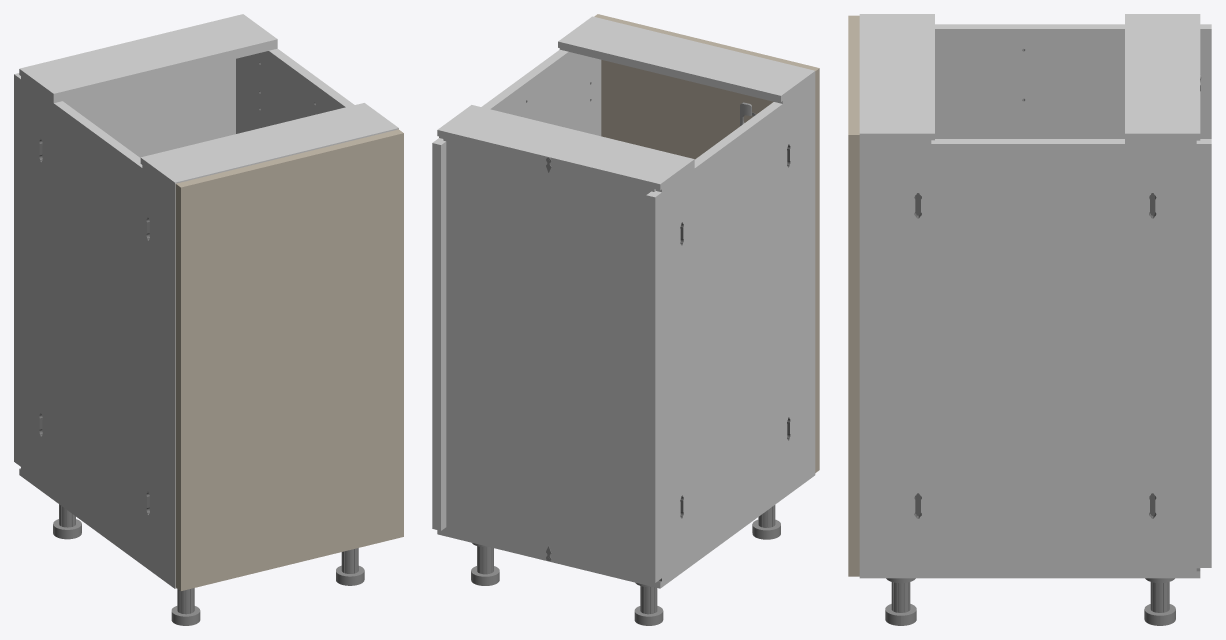
File: BaseUnit_1D_450-1771004223662.glb
3 renders of one model, left to right at view 1: azimuth 30°, elevation 25°; view 2: azimuth 150°, elevation 25°; view 3: azimuth 270°, elevation 25°, orthographic. The views are drawn at different scales.
Visible parts, largest first — view 1: Door, SidePanel_L, BackPanel, TopRib_B, TopRib_F, SidePanel_L001, BasePanel, Leg_FL, Leg_FR, Leg_BL; view 2: BackPanel, SidePanel_L, Door, SidePanel_L001, TopRib_F, TopRib_B, BasePanel, Leg_BL, Leg_BR, Leg_FL; view 3: SidePanel_L001, SidePanel_L, TopRib_F, TopRib_B, Door, BasePanel, Leg_FR, Leg_BR.
Part boxes in pixels (x1,y1,x2,y2): Door: [175, 129, 403, 590]; SidePanel_L: [14, 73, 175, 579]; BackPanel: [63, 59, 235, 157]; TopRib_B: [19, 14, 277, 102]; TopRib_F: [140, 103, 398, 191]; SidePanel_L001: [236, 48, 354, 133]; BasePanel: [19, 467, 176, 588]; Leg_FL: [171, 588, 200, 625]; Leg_FR: [336, 548, 364, 585]; Leg_BL: [53, 504, 81, 539]; BackPanel: [443, 137, 655, 578]; SidePanel_L: [646, 80, 815, 582]; Door: [594, 14, 819, 472]; SidePanel_L001: [432, 49, 601, 530]; TopRib_F: [558, 16, 815, 103]; TopRib_B: [437, 105, 694, 192]; BasePanel: [437, 466, 815, 588]; Leg_BL: [634, 586, 663, 625]; Leg_BR: [471, 546, 499, 585]; Leg_FL: [752, 505, 780, 539]; SidePanel_L001: [859, 139, 1211, 567]; SidePanel_L: [935, 24, 1211, 138]; TopRib_F: [859, 14, 934, 143]; TopRib_B: [1125, 14, 1200, 143]; Door: [848, 15, 859, 576]; BasePanel: [859, 568, 1200, 583]; Leg_FR: [885, 582, 916, 625]; Leg_BR: [1144, 582, 1175, 625].
Bounding box in the file's own units: 0.45 × 0.88 × 0.5779.
